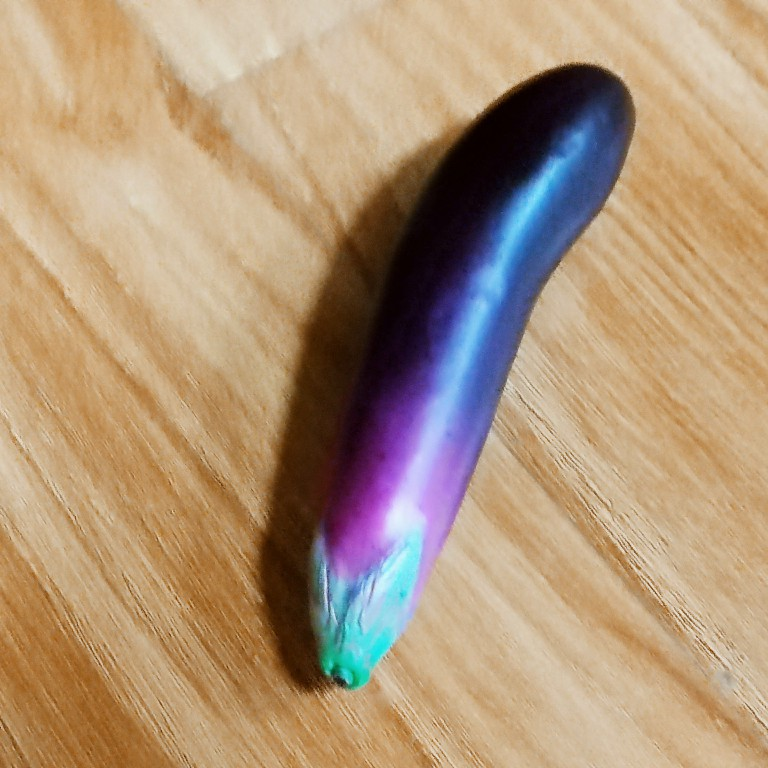fruit_eggplant: (303, 57, 642, 693)
